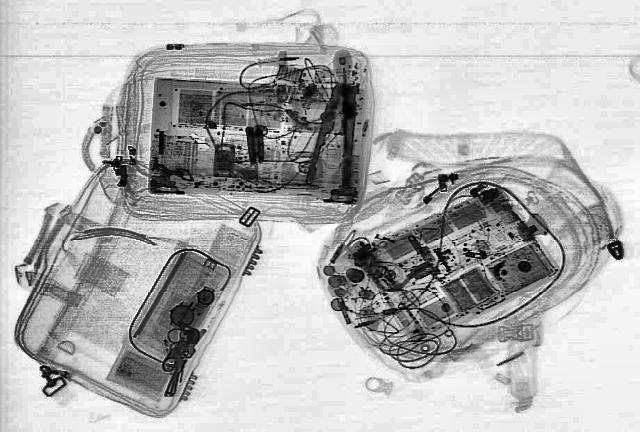Pliers: (304, 82, 366, 188)
